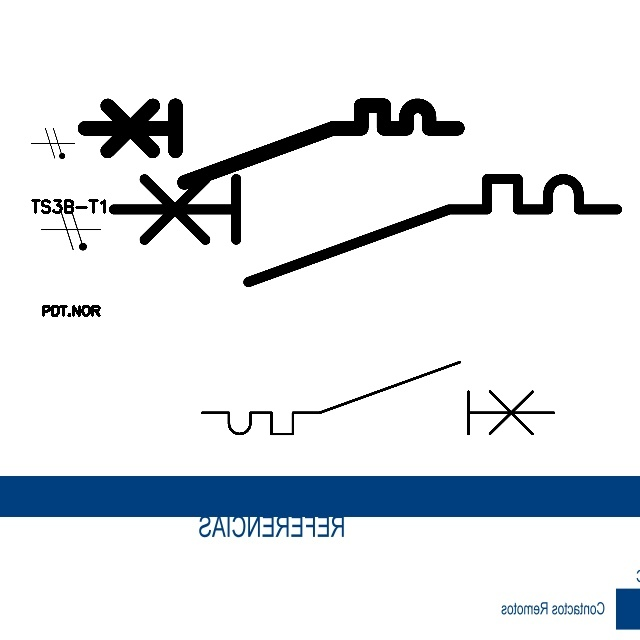interruptor_termomagnetico: (100, 166, 629, 295), (75, 96, 467, 192), (193, 353, 563, 443)
